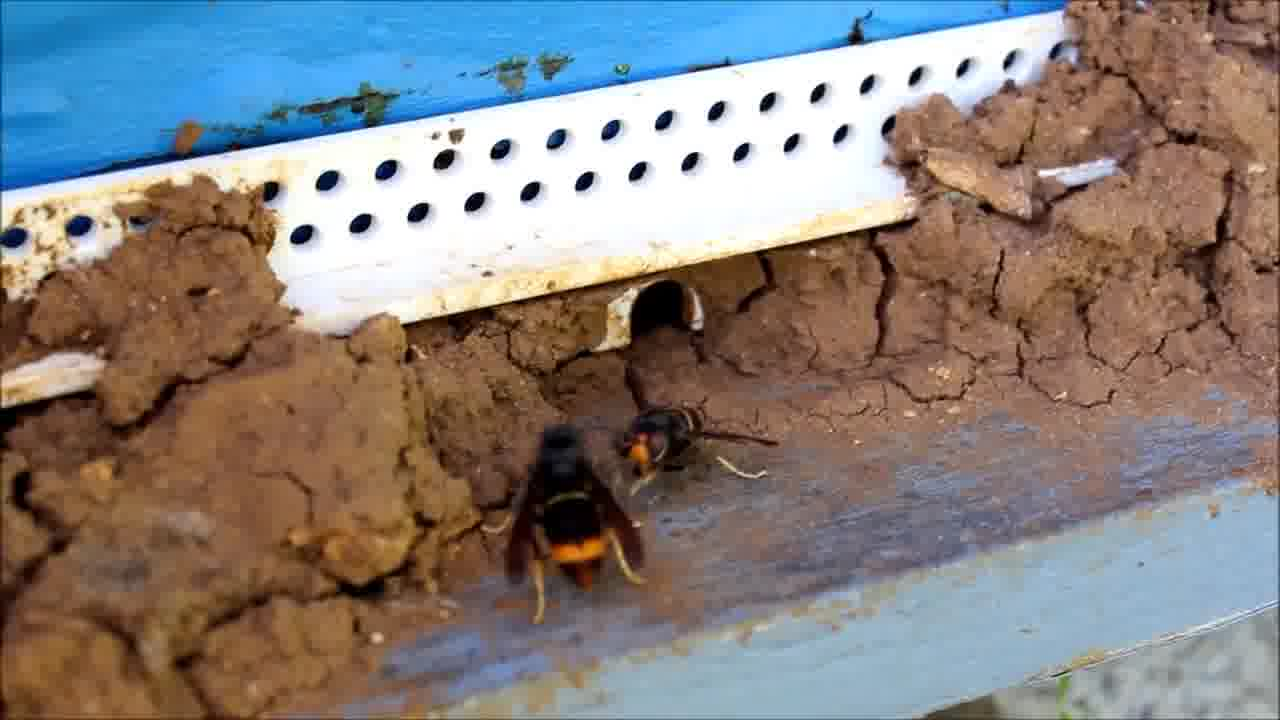hornet: (508, 433, 654, 614), (623, 391, 744, 477)
